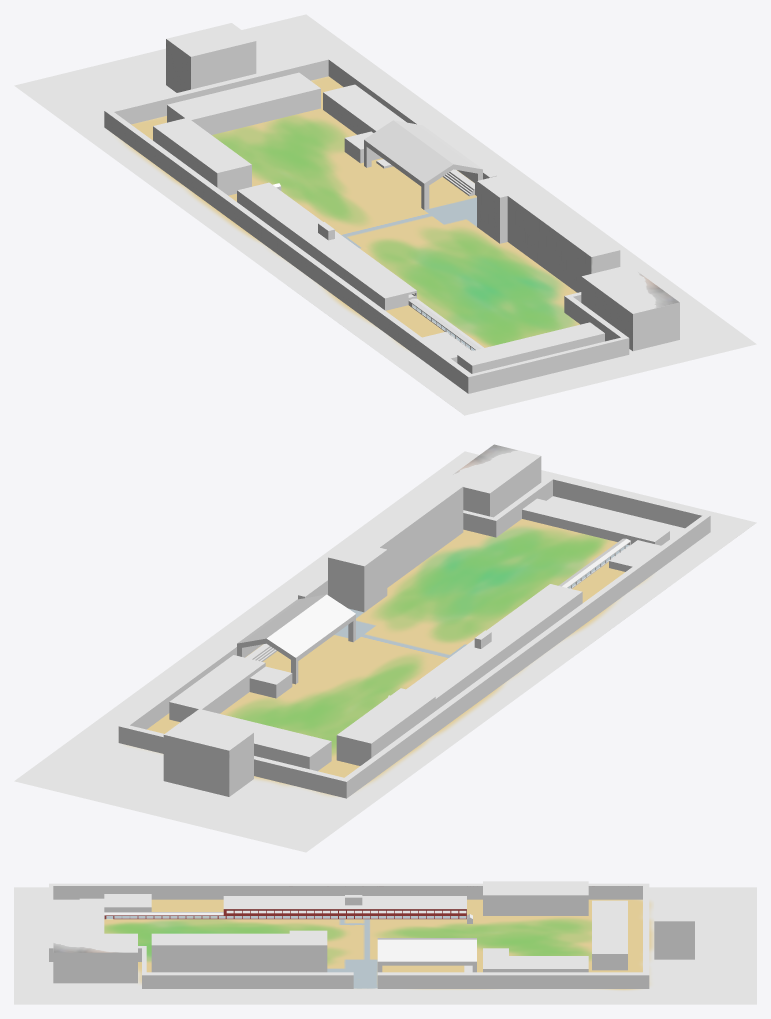
Rendered from msu.glb.
The picture shows the model from 3 angles, top to bottom: view 1: azimuth 30°, elevation 25°; view 2: azimuth 150°, elevation 25°; view 3: azimuth 270°, elevation 25°; orthographic projection. The views are drawn at different scales.
Parts seen in each view (by area): view 1: Plane; view 2: Plane; view 3: Plane.
Part boxes in pixels (x1,y1,x2,y2): Plane: (14, 14, 756, 415); Plane: (14, 444, 756, 852); Plane: (14, 881, 756, 1004).
Size of the model in its own units: 197 by 29.81 by 525.
1 material, 1 textured.
